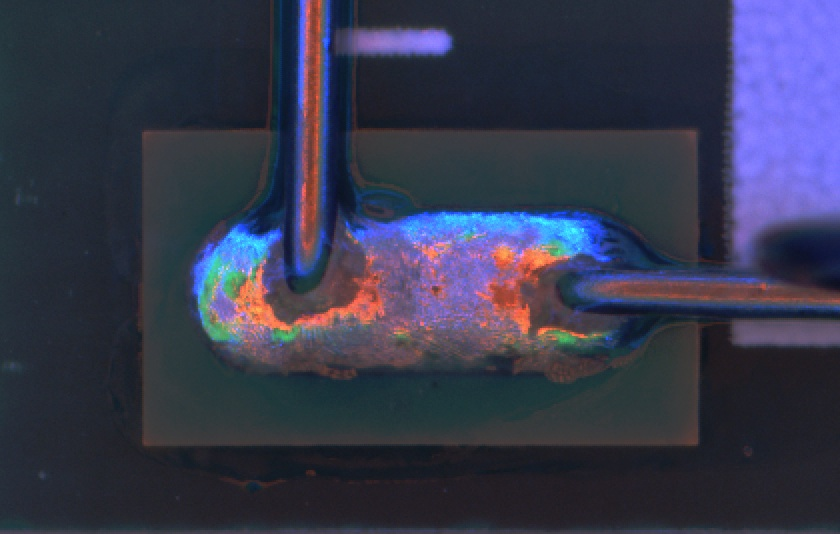spring: (277, 1, 346, 295), (554, 265, 840, 325)
spring_pin: (192, 204, 655, 373)
